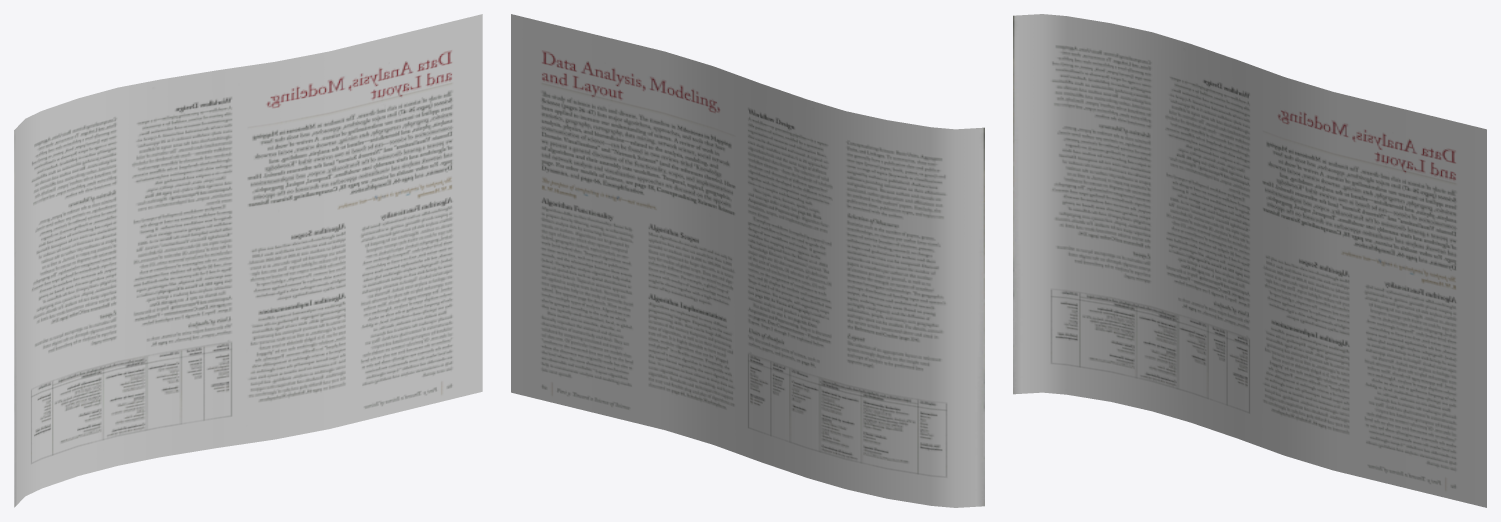
File: MeshBookFront_1_1_GeomSubset_2.obj
3 renders of one model, left to right at view 1: azimuth 30°, elevation 25°; view 2: azimuth 150°, elevation 25°; view 3: azimuth 330°, elevation 25°, orthographic.
Visible parts, largest first — view 1: MeshBookFront_1_1_GeomSubset_2; view 2: MeshBookFront_1_1_GeomSubset_2; view 3: MeshBookFront_1_1_GeomSubset_2.
Part boxes in pixels (x1,y1,x2,y2): MeshBookFront_1_1_GeomSubset_2: [14, 14, 482, 507]; MeshBookFront_1_1_GeomSubset_2: [511, 14, 984, 507]; MeshBookFront_1_1_GeomSubset_2: [1013, 14, 1486, 507].
Size of the model in its own units: 0.4161 by 0.3191 by 0.0273.
1 material, 1 textured.
